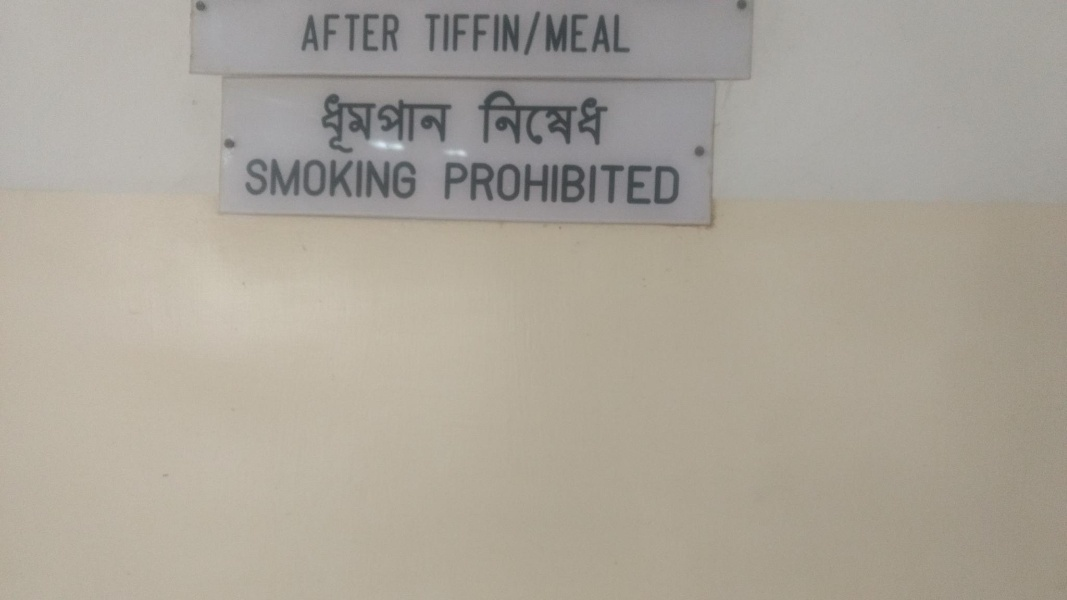text: (321, 92, 336, 155), (337, 92, 352, 155), (353, 92, 368, 155), (369, 92, 384, 155), (385, 92, 400, 155), (401, 92, 416, 155), (417, 92, 432, 155), (433, 92, 448, 155), (481, 87, 496, 146), (497, 87, 512, 146), (513, 87, 528, 146), (529, 87, 544, 146), (545, 87, 560, 146), (561, 87, 576, 146), (577, 87, 592, 146), (593, 87, 608, 146), (449, 161, 464, 209), (465, 161, 480, 209), (481, 161, 496, 209), (497, 161, 512, 209), (513, 161, 528, 209), (529, 161, 544, 209), (545, 161, 560, 209), (561, 161, 576, 209), (577, 161, 592, 209), (593, 161, 608, 209), (609, 161, 624, 209), (625, 161, 640, 209), (641, 161, 656, 209), (657, 161, 672, 209), (433, 10, 448, 57), (449, 10, 464, 57), (465, 10, 480, 57), (481, 10, 496, 57), (497, 10, 512, 57), (513, 10, 528, 57), (529, 10, 544, 57), (545, 10, 560, 57), (561, 10, 576, 57), (577, 10, 592, 57), (593, 10, 608, 57), (609, 10, 624, 57), (257, 156, 272, 201), (273, 156, 288, 201), (289, 156, 304, 201), (305, 156, 320, 201), (321, 156, 336, 201), (337, 156, 352, 201), (353, 156, 368, 201), (369, 156, 384, 201), (385, 156, 400, 201), (401, 156, 416, 201), (321, 14, 336, 53), (337, 14, 352, 53), (353, 14, 368, 53), (369, 14, 384, 53), (385, 14, 400, 53), (625, 10, 637, 57), (673, 161, 682, 209), (309, 14, 320, 53), (247, 156, 256, 201), (425, 10, 432, 57), (449, 92, 453, 155), (477, 87, 480, 146), (417, 156, 420, 201), (609, 87, 611, 146), (446, 161, 448, 209), (401, 14, 402, 53)
